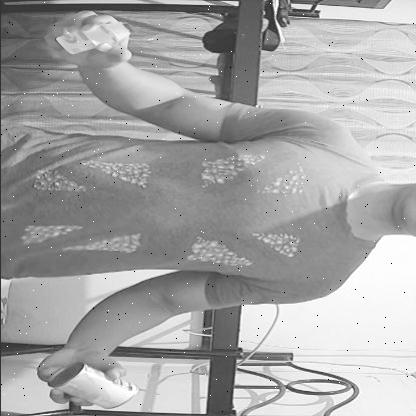Others: (53, 12, 136, 79)
